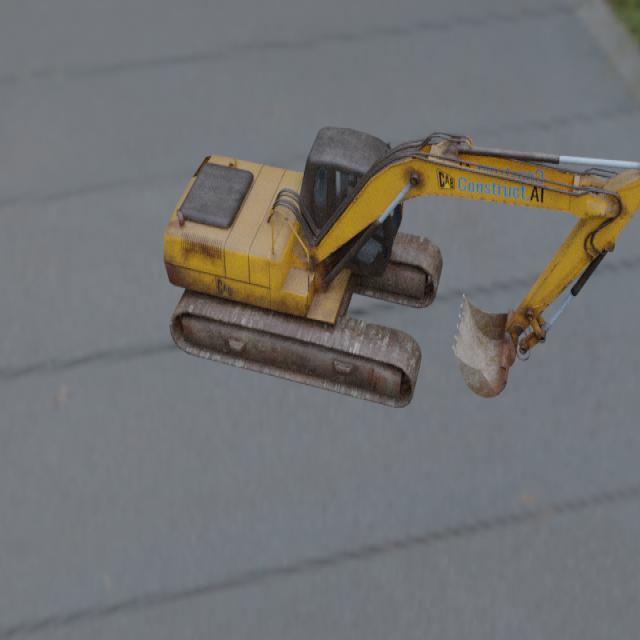excavator: (163, 125, 640, 408)
